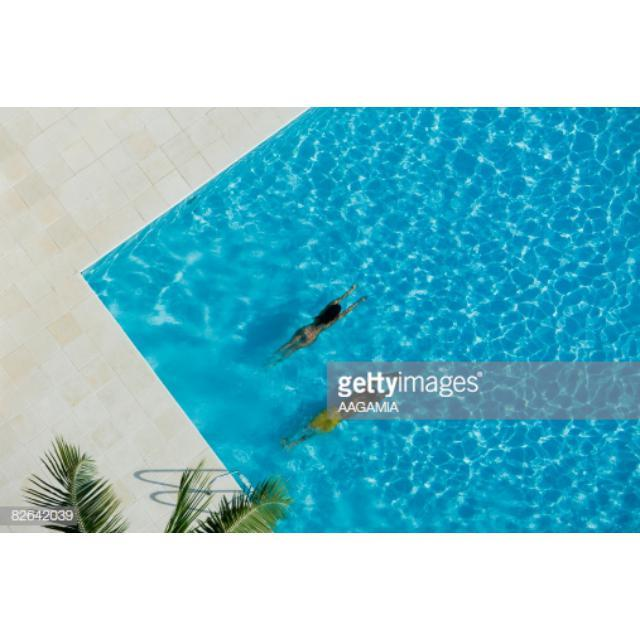human: (267, 283, 367, 368)
